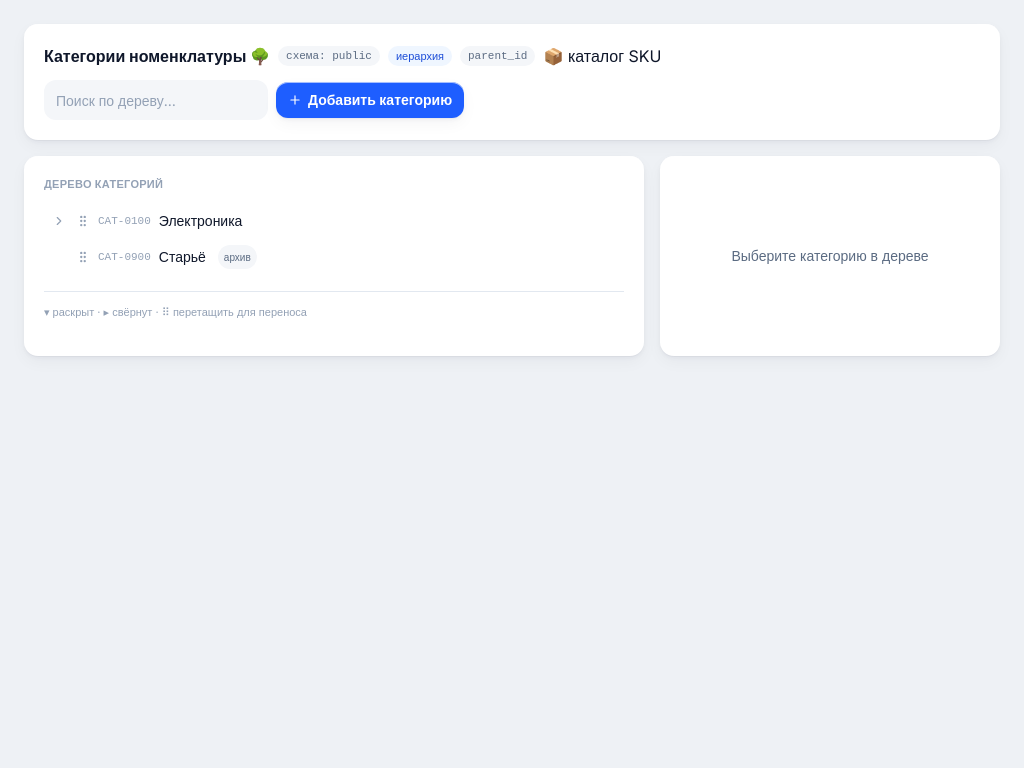
Test: SpravCategories › архивирование выбранной группы подтверждается и зовёт archiveNomenclatureGroup
Click the text "Электроника" at (201, 220), box [159, 210, 242, 230]
(page scrolled)
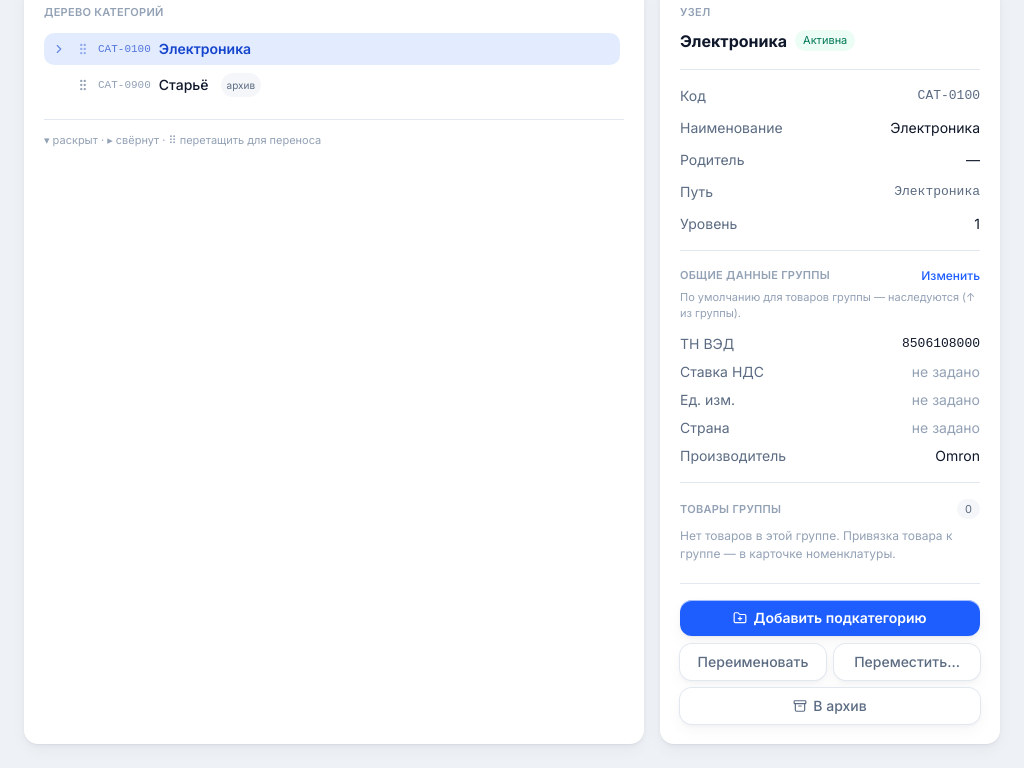
Click the button "В архив" at (830, 706), box [680, 688, 980, 724]
(page scrolled)
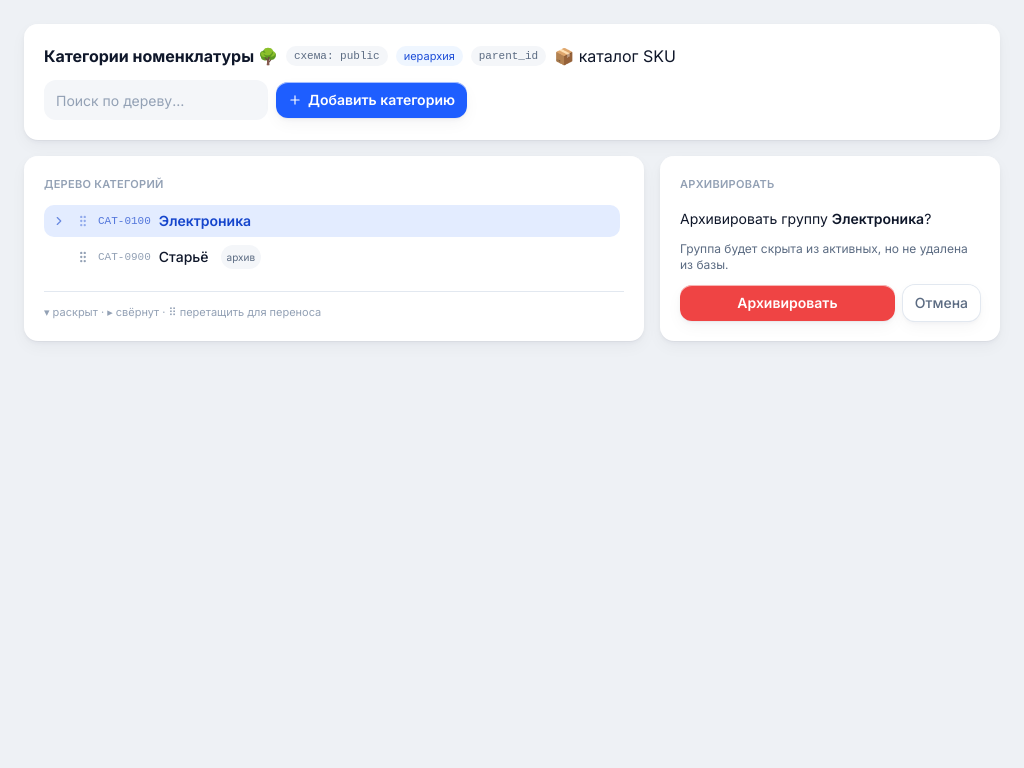
Now the text "Архивировать группу Электроника?" is shown, box [680, 210, 931, 226]
Click the button "Архивировать" at (787, 302), box [680, 284, 895, 320]
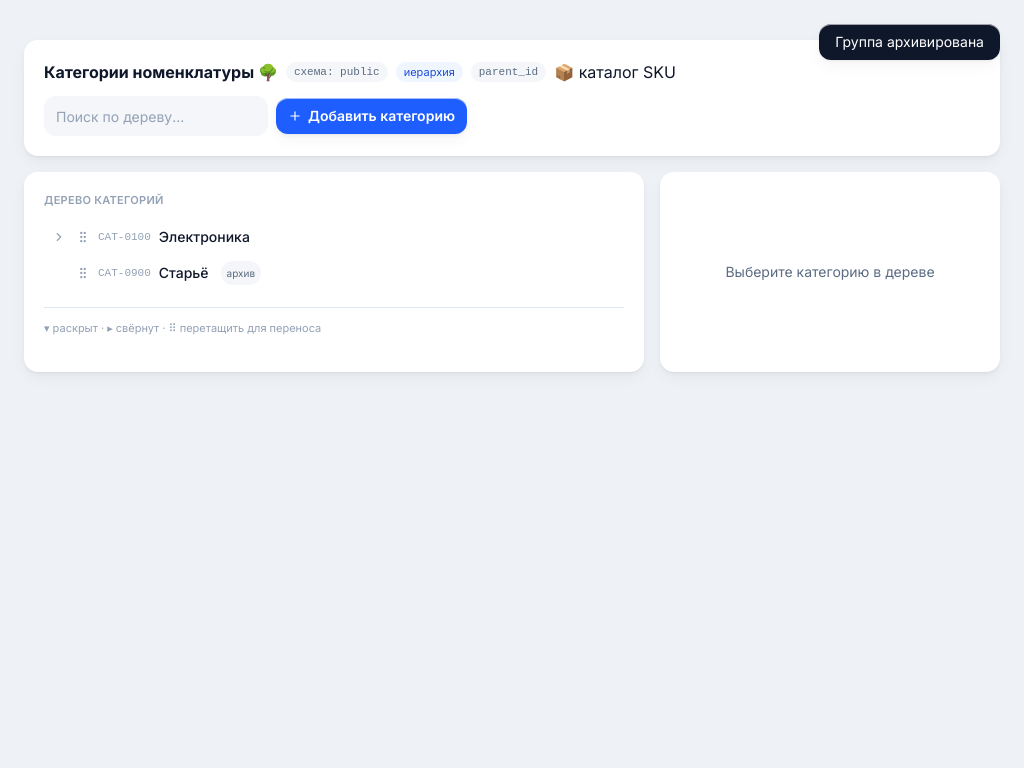
Now the text "Группа архивирована" is shown, box [819, 24, 1000, 60]
